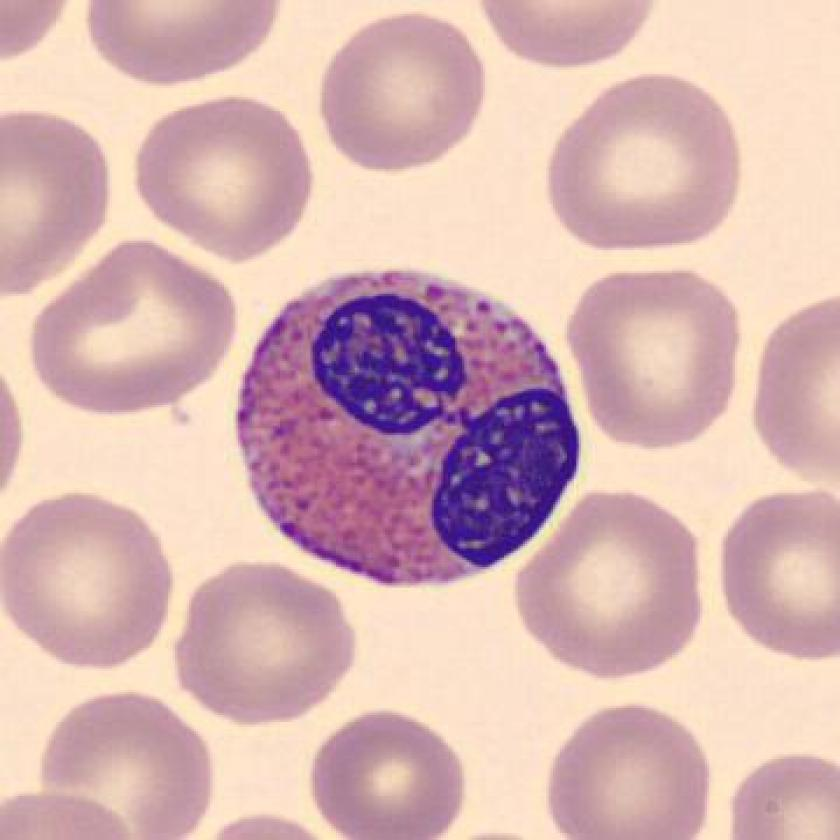eosinophil: (220, 260, 589, 603)
